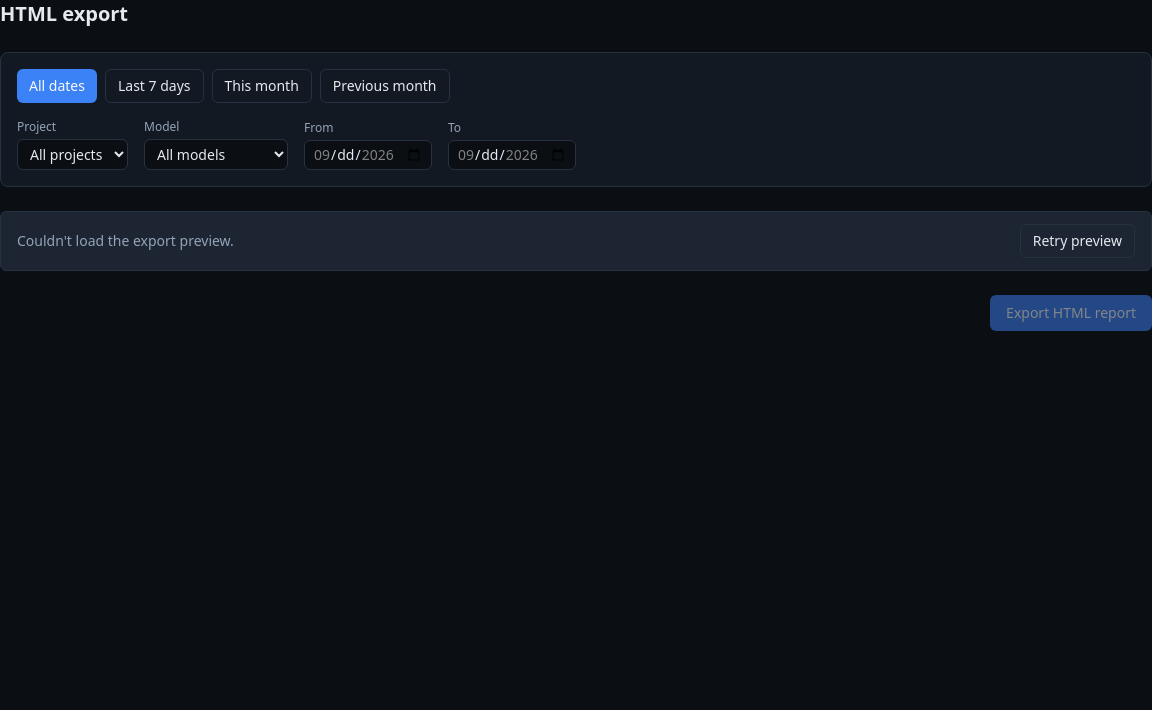
ExportPage › shows a retryable preview error when loading the report fails
Expected: the message shows "Couldn't load the export preview.", [17, 231, 234, 250]
Step 1. Click the button "Retry preview" → (1077, 241), box [1020, 224, 1135, 258]
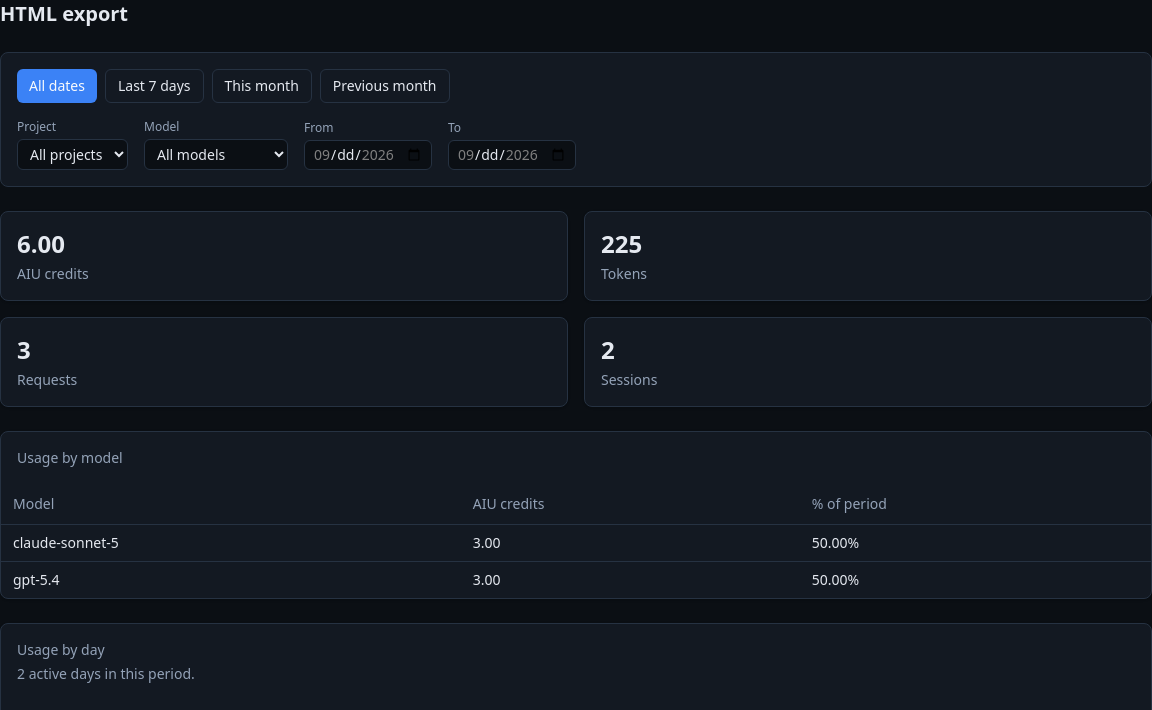
Expected: the text "6.00" is shown, [17, 227, 65, 260]
